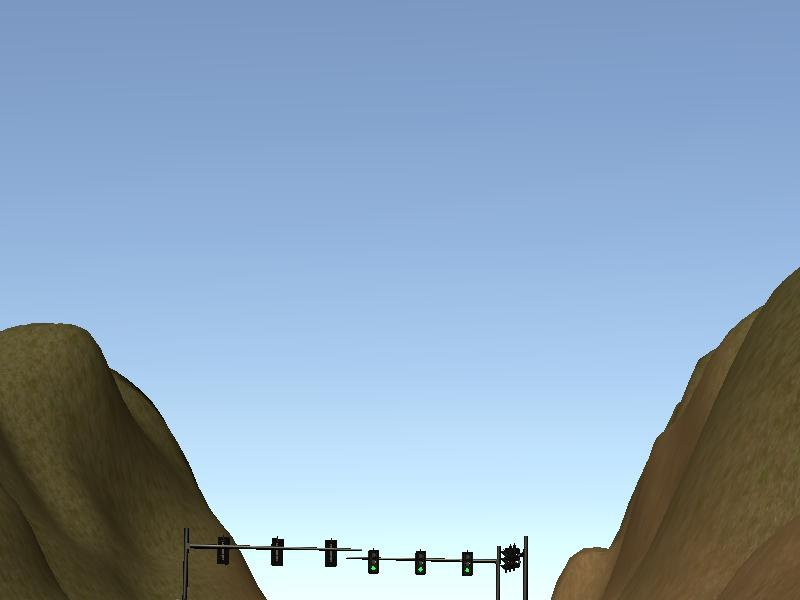green_light: (414, 552, 427, 576), (366, 551, 378, 573), (463, 554, 472, 576)
